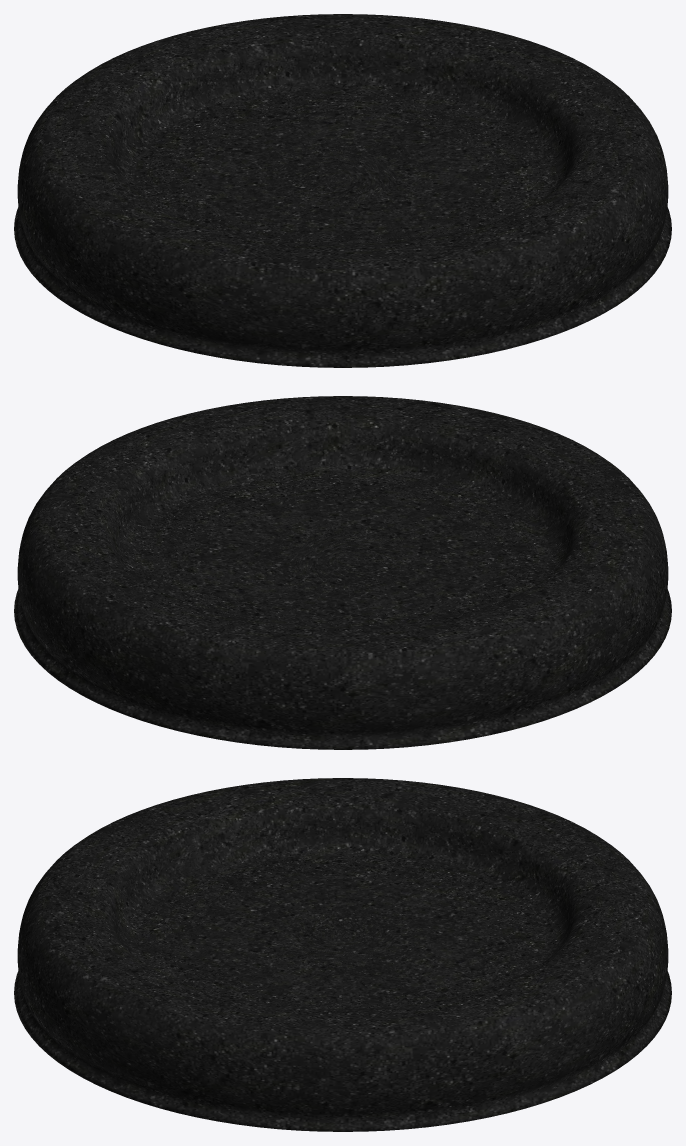
Rendered from tzaar-tott-black.glb.
3 views of the same model, one above another, from view 1: azimuth 30°, elevation 25°; view 2: azimuth 150°, elevation 25°; view 3: azimuth 270°, elevation 25° (orthographic).
Parts seen in each view (by area): view 1: tzaar-tott-black; view 2: tzaar-tott-black; view 3: tzaar-tott-black.
Part boxes in pixels (x1,y1,x2,y2): tzaar-tott-black: (14, 14, 671, 367); tzaar-tott-black: (14, 396, 671, 749); tzaar-tott-black: (14, 778, 671, 1131).
Size of the model in its own units: 0.0283 by 0.00435 by 0.0283.
Materials: 1 (1 with a texture image).
